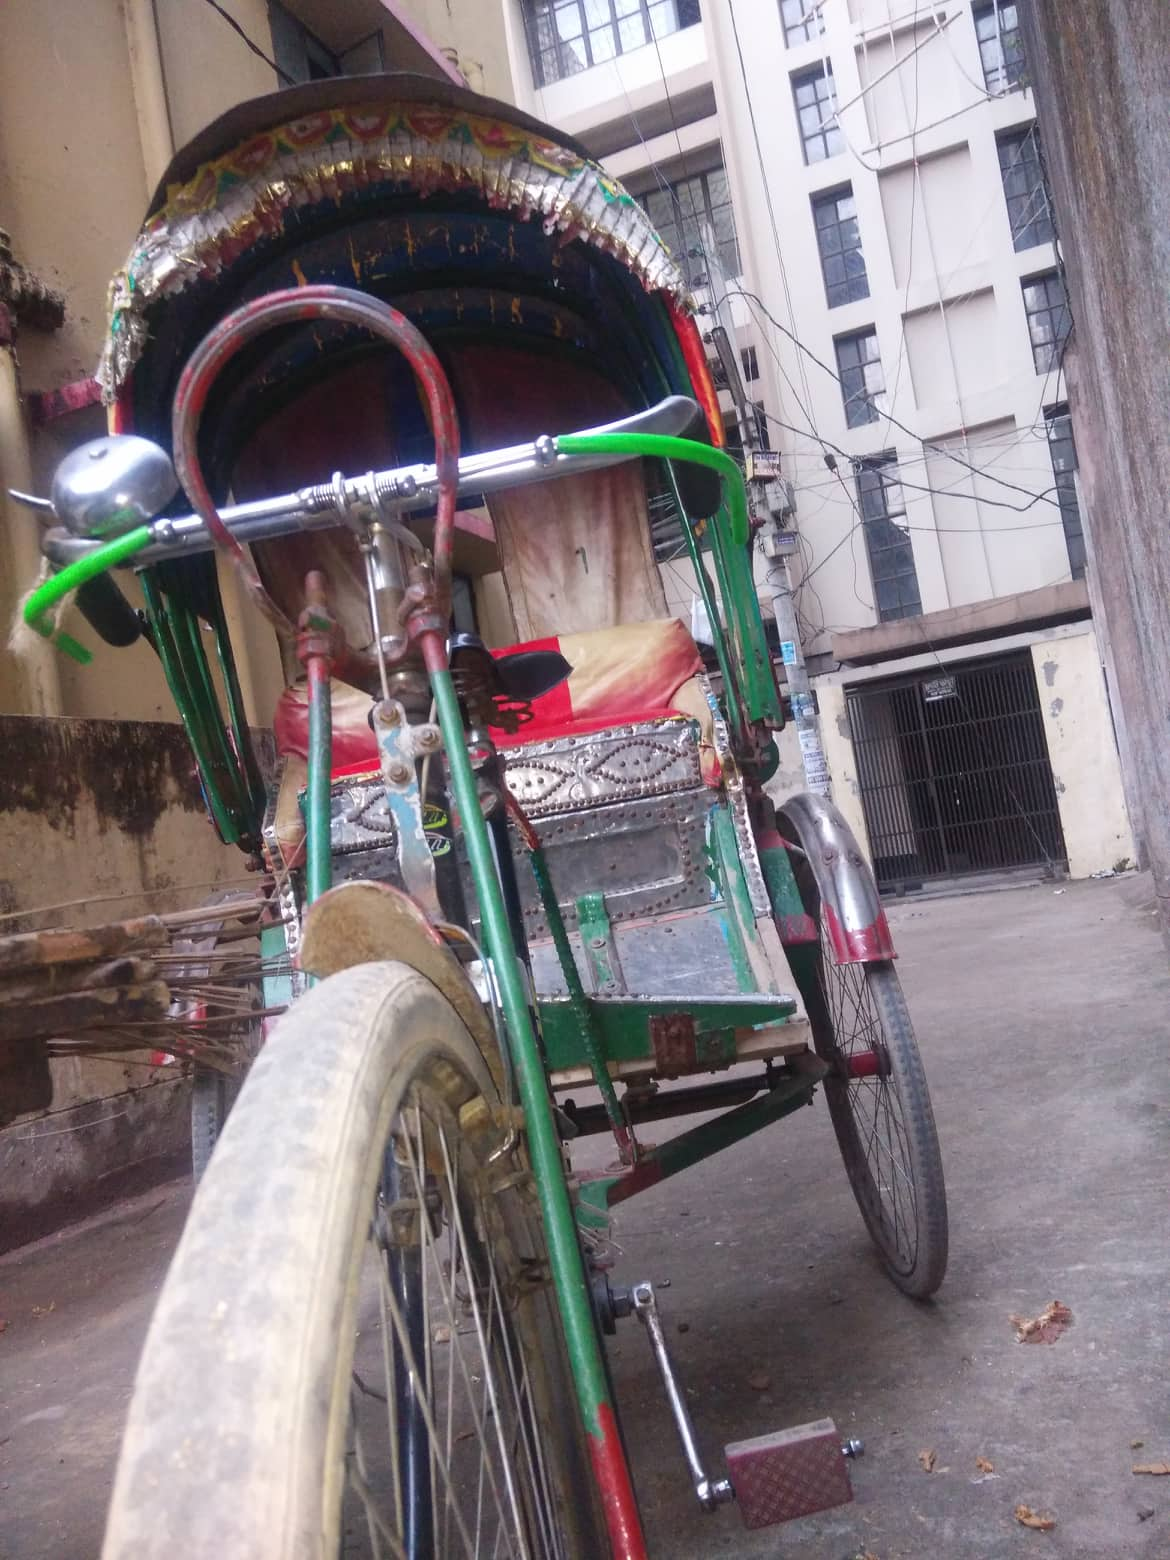Rickshaw: (34, 84, 951, 1381)
